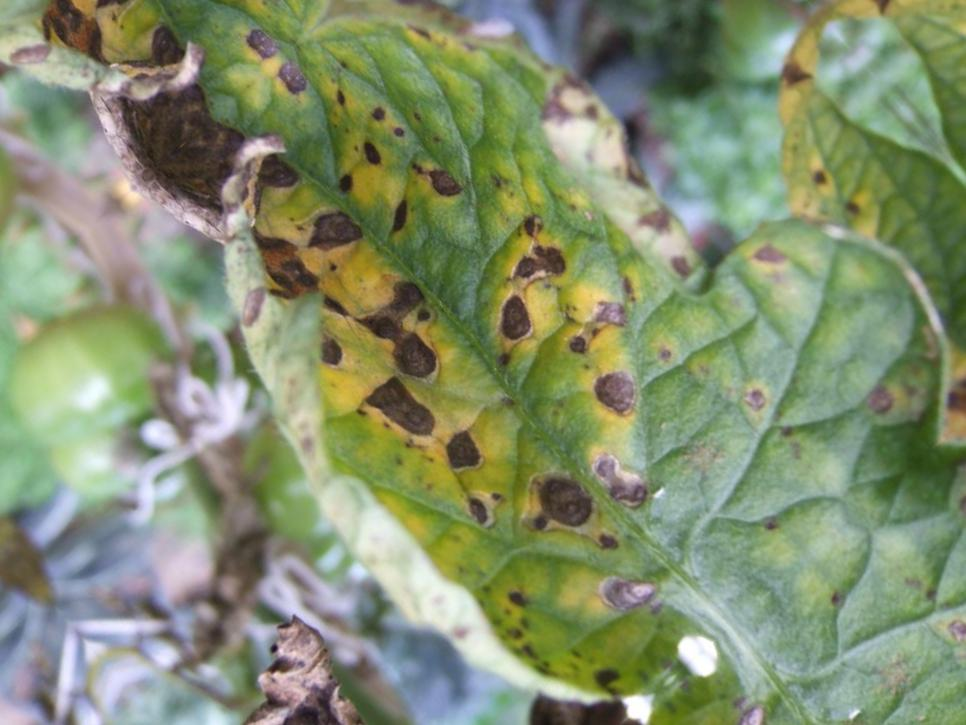Tomato Early blight leaf: (112, 0, 966, 725)
